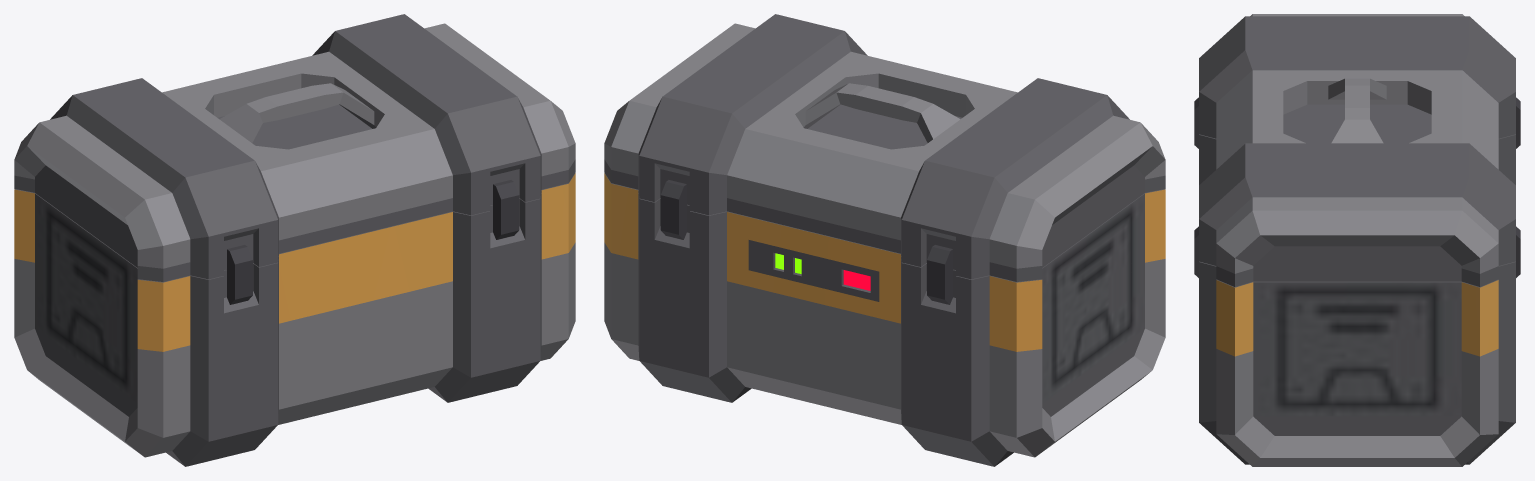
File: entity18622.glb
3 views of the same model, side by side, from view 1: azimuth 30°, elevation 25°; view 2: azimuth 150°, elevation 25°; view 3: azimuth 270°, elevation 25° (orthographic).
Visible parts, largest first — view 1: node_SM_Prop_Crate_04 (4), node_SM_Prop_Crate_04_Lid_01; view 2: node_SM_Prop_Crate_04 (4), node_SM_Prop_Crate_04_Lid_01; view 3: node_SM_Prop_Crate_04_Lid_01, node_SM_Prop_Crate_04 (4).
Part boxes in pixels (<box>): node_SM_Prop_Crate_04 (4): <box>14,173,575,466</box>; node_SM_Prop_Crate_04_Lid_01: <box>14,14,575,281</box>; node_SM_Prop_Crate_04 (4): <box>604,173,1165,466</box>; node_SM_Prop_Crate_04_Lid_01: <box>604,14,1165,304</box>; node_SM_Prop_Crate_04_Lid_01: <box>1199,14,1520,286</box>; node_SM_Prop_Crate_04 (4): <box>1194,97,1515,466</box>.
Size of the model in its own units: 1.84 by 1.16 by 1.2.
1 material, 1 textured.
